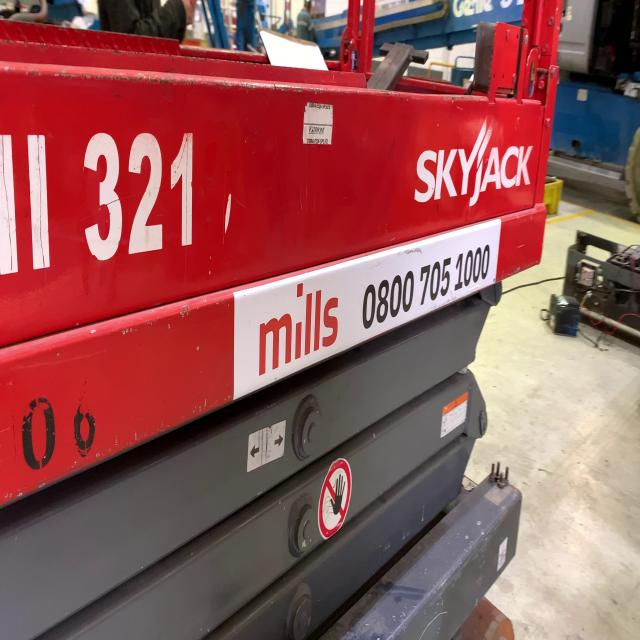Adesivo Longo: (225, 206, 507, 409)
